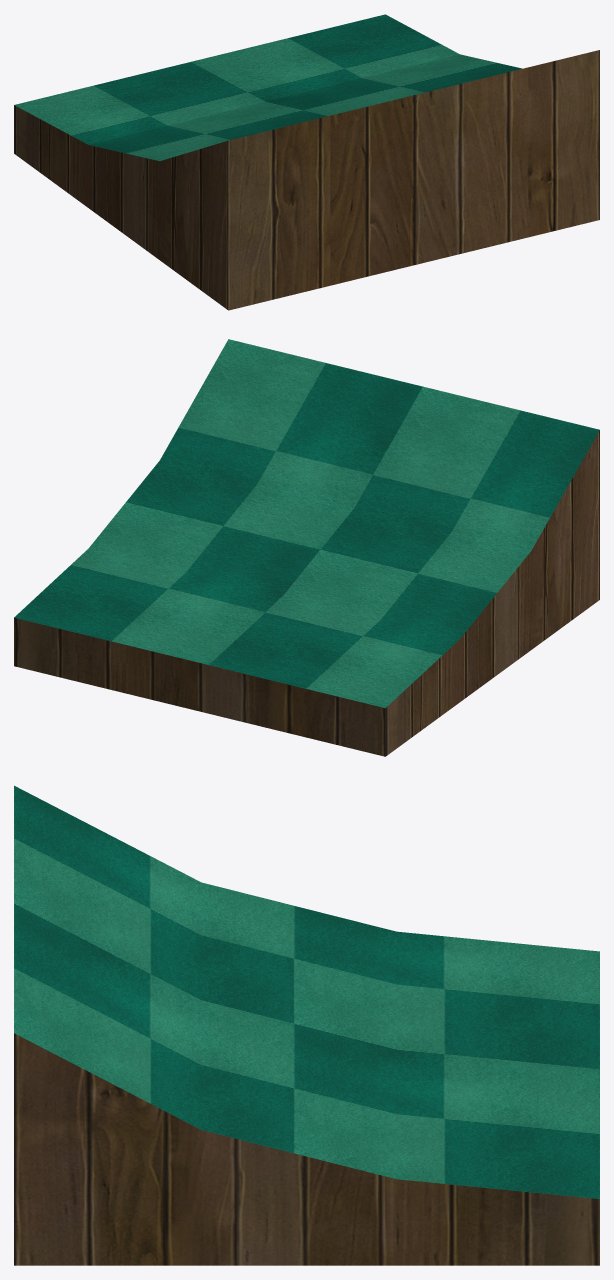
The model's file is Ramp3.gltf.
The picture shows the model from 3 angles, top to bottom: view 1: azimuth 30°, elevation 25°; view 2: azimuth 150°, elevation 25°; view 3: azimuth 270°, elevation 25°; orthographic projection. The views are drawn at different scales.
Visible parts, largest first — view 1: Ramp3_corner_glb; view 2: Ramp3_corner_glb; view 3: Ramp3_corner_glb.
Part boxes in pixels (x1,y1,x2,y2): Ramp3_corner_glb: (14, 14, 599, 310); Ramp3_corner_glb: (14, 339, 599, 756); Ramp3_corner_glb: (14, 785, 599, 1265).
Size of what is drawn, in the model's own units: 4 by 1.75 by 4.
2 materials, 2 textured.
